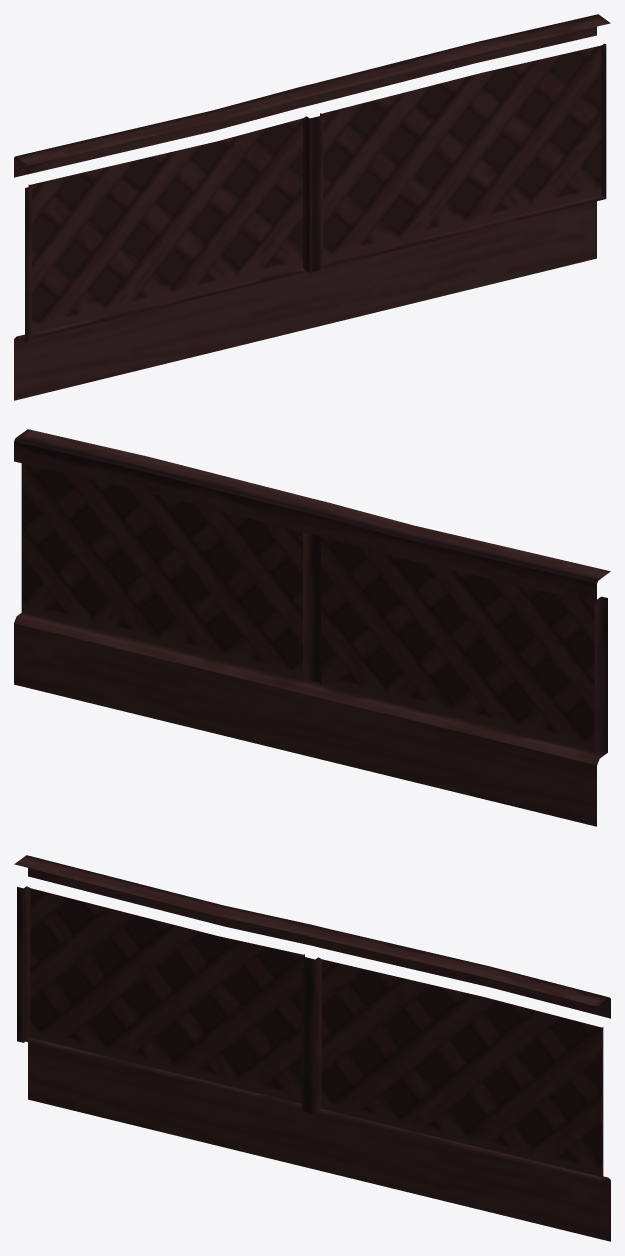
File: MOD_WallSkirtingShort_Block.fbx
The picture shows the model from 3 angles, top to bottom: view 1: azimuth 30°, elevation 25°; view 2: azimuth 150°, elevation 25°; view 3: azimuth 330°, elevation 25°; orthographic projection.
Visible parts, largest first — view 1: MOD_WallSkirtingShort_Block; view 2: MOD_WallSkirtingShort_Block; view 3: MOD_WallSkirtingShort_Block.
Part boxes in pixels (left/top/right/bottom): MOD_WallSkirtingShort_Block: left=14, top=14, right=610, bottom=400; MOD_WallSkirtingShort_Block: left=14, top=429, right=610, bottom=826; MOD_WallSkirtingShort_Block: left=14, top=855, right=610, bottom=1241.
Size of the model in its own units: 200 by 80.99 by 8.23.
1 material, 1 textured.
